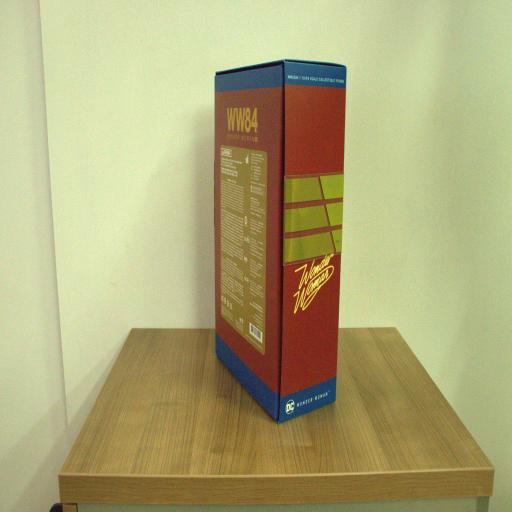WonderWoman: (214, 59, 347, 422)
